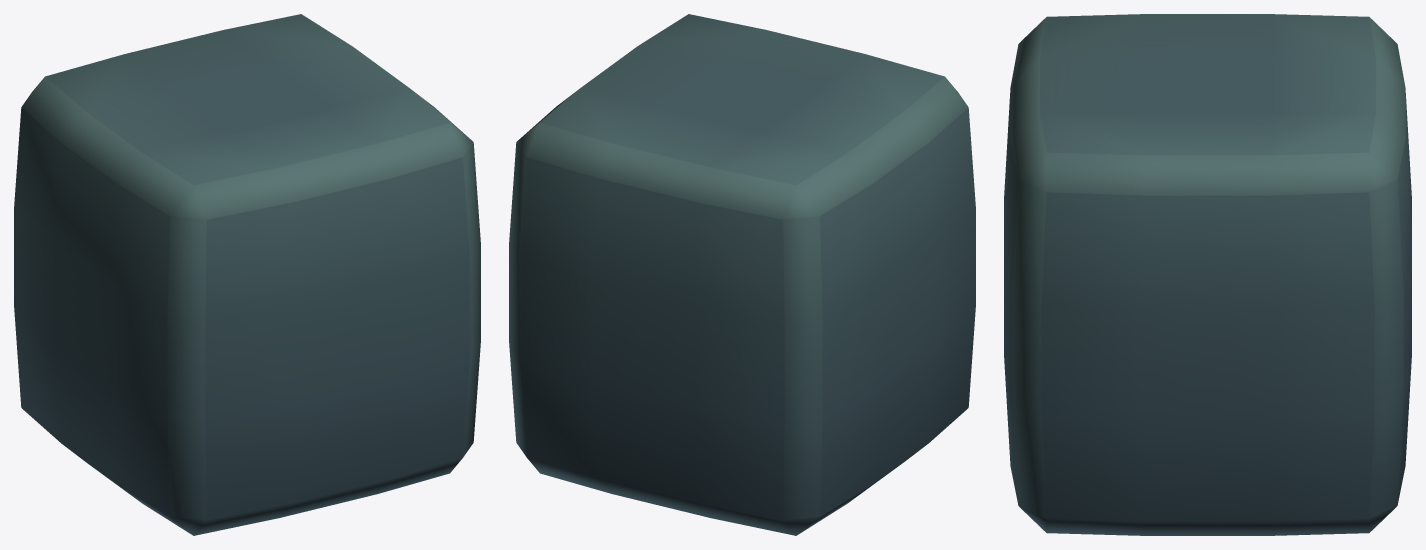
The model's file is cube_1m_dark.fbx.
The picture shows the model from 3 angles, left to right: view 1: azimuth 30°, elevation 25°; view 2: azimuth 150°, elevation 25°; view 3: azimuth 270°, elevation 25°; orthographic projection. The views are drawn at different scales.
Parts seen in each view (by area): view 1: cube_1m_dark; view 2: cube_1m_dark; view 3: cube_1m_dark.
Boxes of the visible parts, x1,y1,x2,y2 form: cube_1m_dark: (14,14,480,535); cube_1m_dark: (509,14,975,535); cube_1m_dark: (1004,14,1411,535).
Bounding box in the file's own units: 112 × 115 × 112.
